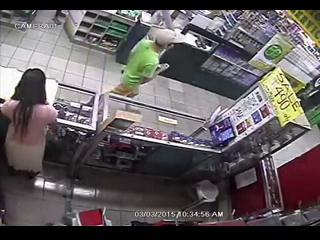Normal: (0, 68, 59, 181), (110, 28, 181, 98)
